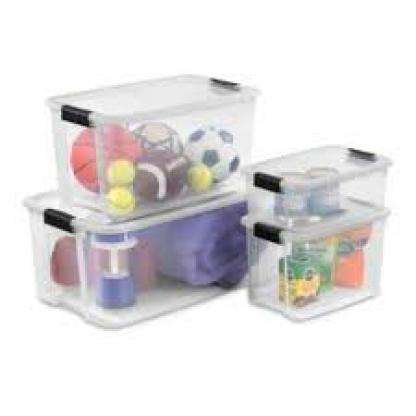plastic_box: (37, 76, 264, 216)
